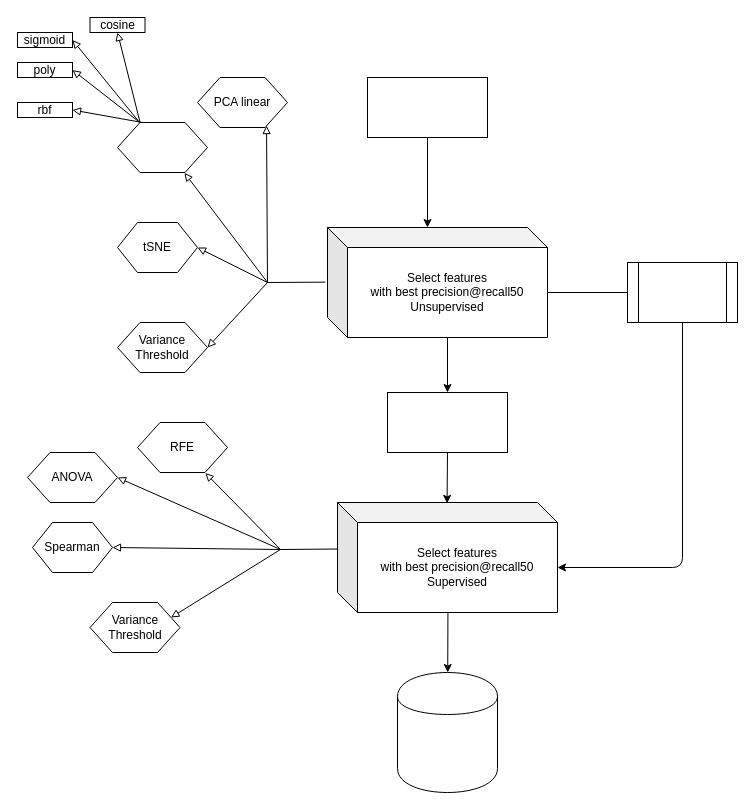
Image size: 755x810. Some labels were removed from this diagram. Each missing label, with the centre of its shape:
Balance data: the point at 447,422
Optimal features and hyperparameters: the point at 447,732
PCA kernel: the point at 162,147
Preprocessing: the point at 427,107
Select optimal tree depth: the point at 682,292
